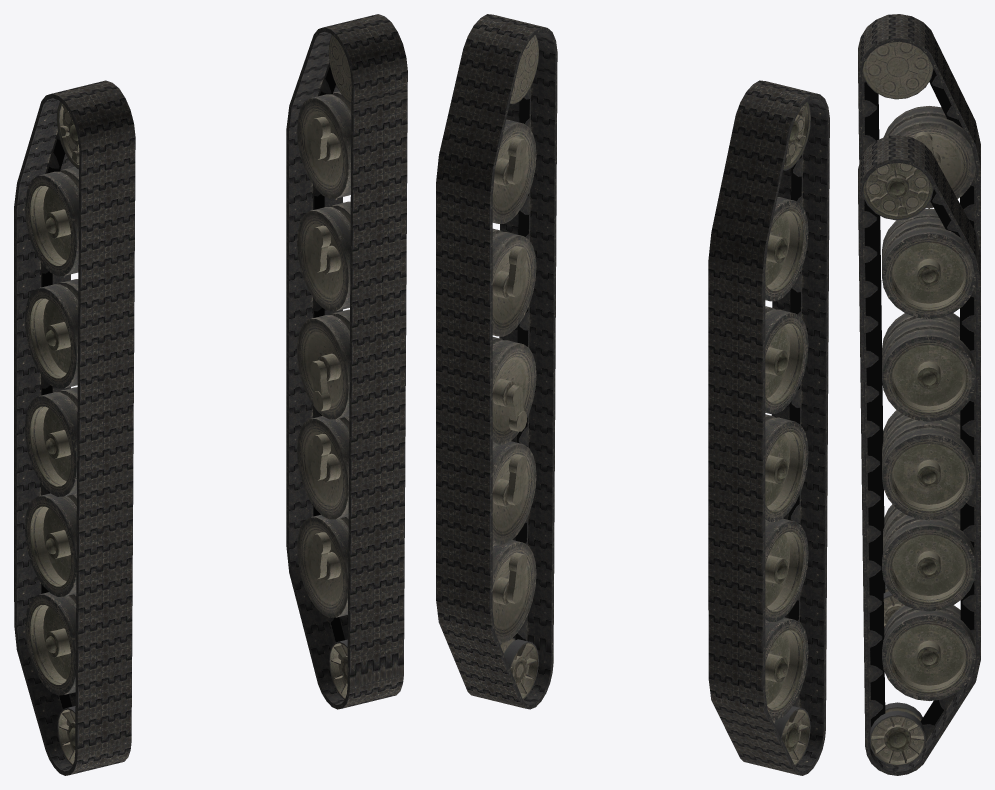
File: Chassis.glb
The picture shows the model from 3 angles, left to right: view 1: azimuth 30°, elevation 25°; view 2: azimuth 150°, elevation 25°; view 3: azimuth 270°, elevation 25°; orthographic projection. The views are drawn at different scales.
Parts seen in each view (by area): view 1: set_1_group_0, set_0_group_0, set_3_group_0, set_2_group_0; view 2: set_1_group_0, set_0_group_0, set_3_group_0, set_2_group_0; view 3: set_3_group_0, set_0_group_0, set_2_group_0, set_1_group_0.
Part boxes in pixels (<box>): set_1_group_0: <box>14,80,135,775</box>; set_0_group_0: <box>286,14,407,709</box>; set_3_group_0: <box>297,35,351,699</box>; set_2_group_0: <box>25,101,79,765</box>; set_1_group_0: <box>708,80,829,775</box>; set_0_group_0: <box>436,14,557,709</box>; set_3_group_0: <box>492,35,538,699</box>; set_2_group_0: <box>765,101,810,765</box>; set_3_group_0: <box>862,163,975,766</box>; set_0_group_0: <box>858,135,980,775</box>; set_2_group_0: <box>862,41,975,627</box>; set_1_group_0: <box>858,14,980,592</box>.
Size of the model in its own units: 3.02 by 5.98 by 1.08.
Materials: 4 (4 with a texture image).
